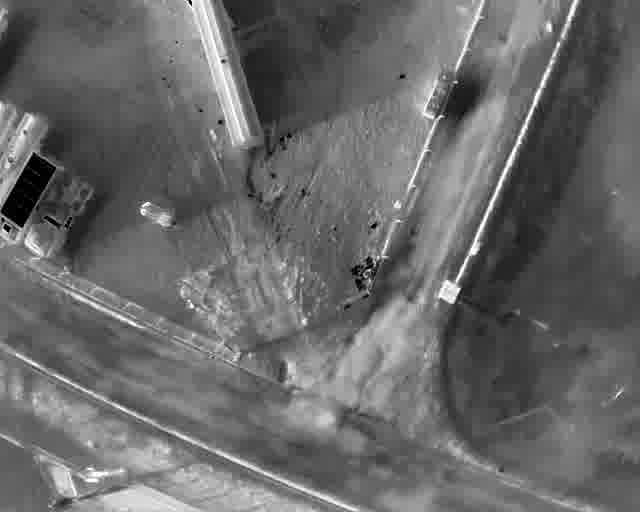truck: (183, 0, 268, 150), (23, 168, 95, 258), (0, 148, 66, 246), (0, 110, 50, 200)
